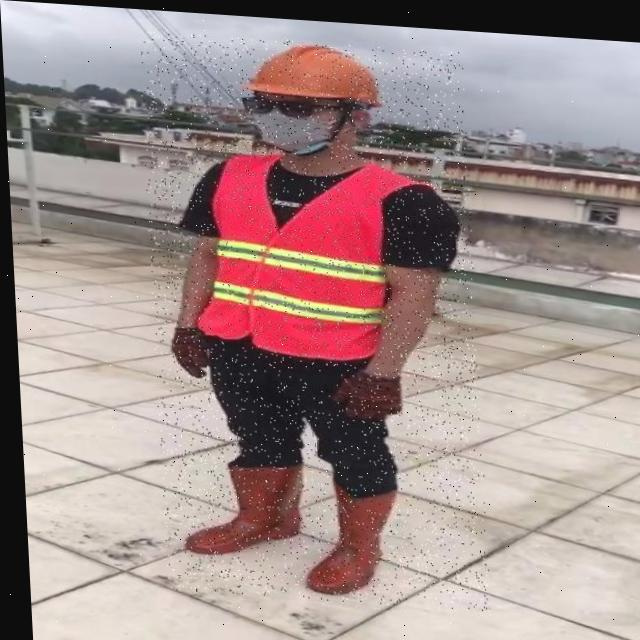Gloves: (326, 361, 400, 418), (168, 323, 207, 376)
Helmet: (240, 36, 383, 102)
Safety-Boot: (175, 449, 304, 557), (295, 474, 397, 594)
Safety-Vest: (182, 143, 441, 363)
